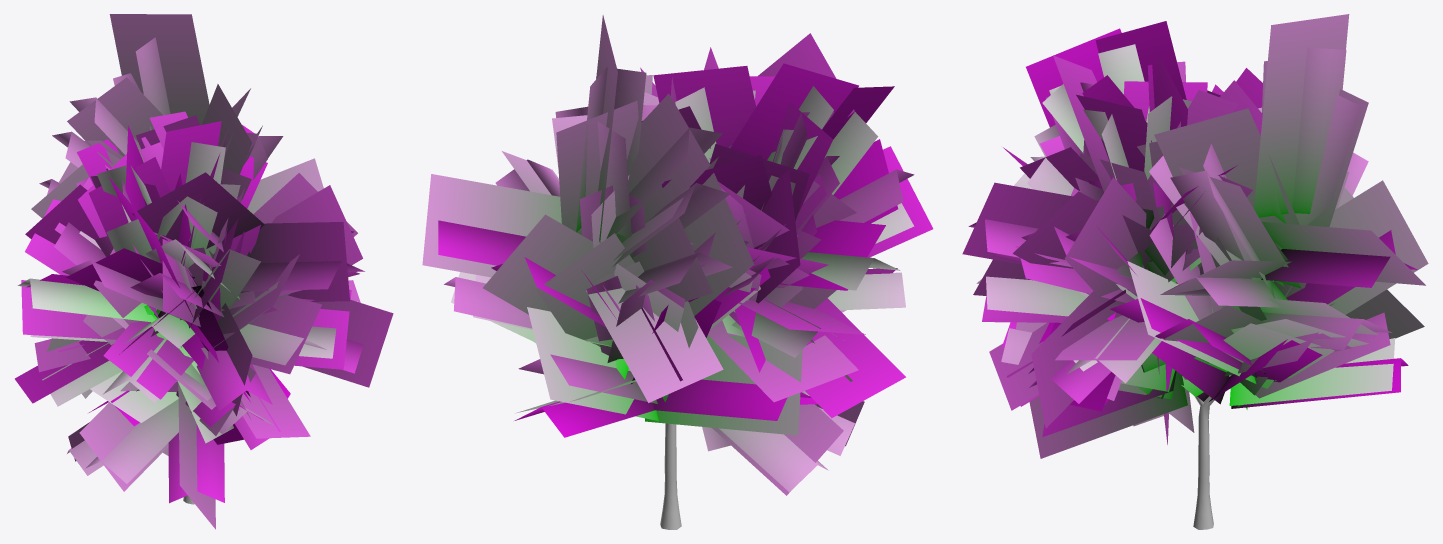
The model's file is rowan_08.fbx.
3 views of the same model, side by side, from view 1: azimuth 30°, elevation 25°; view 2: azimuth 150°, elevation 25°; view 3: azimuth 270°, elevation 25° (orthographic). The views are drawn at different scales.
Parts seen in each view (by area): view 1: rowan_leaves_08_shadow, rowan_leaves_08_lod0; view 2: rowan_leaves_08_shadow, rowan_leaves_08_lod0, rowan_tree_08_lod0; view 3: rowan_leaves_08_shadow, rowan_leaves_08_lod0, rowan_tree_08_lod0.
Part boxes in pixels (box(x1,y1,x2,y2)): rowan_leaves_08_shadow: box(15, 14, 393, 529); rowan_leaves_08_lod0: box(17, 37, 364, 503); rowan_leaves_08_shadow: box(422, 15, 933, 495); rowan_leaves_08_lod0: box(438, 67, 914, 492); rowan_tree_08_lod0: box(660, 423, 681, 529); rowan_leaves_08_shadow: box(962, 14, 1428, 458); rowan_leaves_08_lod0: box(968, 44, 1417, 436); rowan_tree_08_lod0: box(1147, 269, 1231, 529).
Size of what is drawn, in the model's own units: 2.77 by 3.7 by 3.03.
